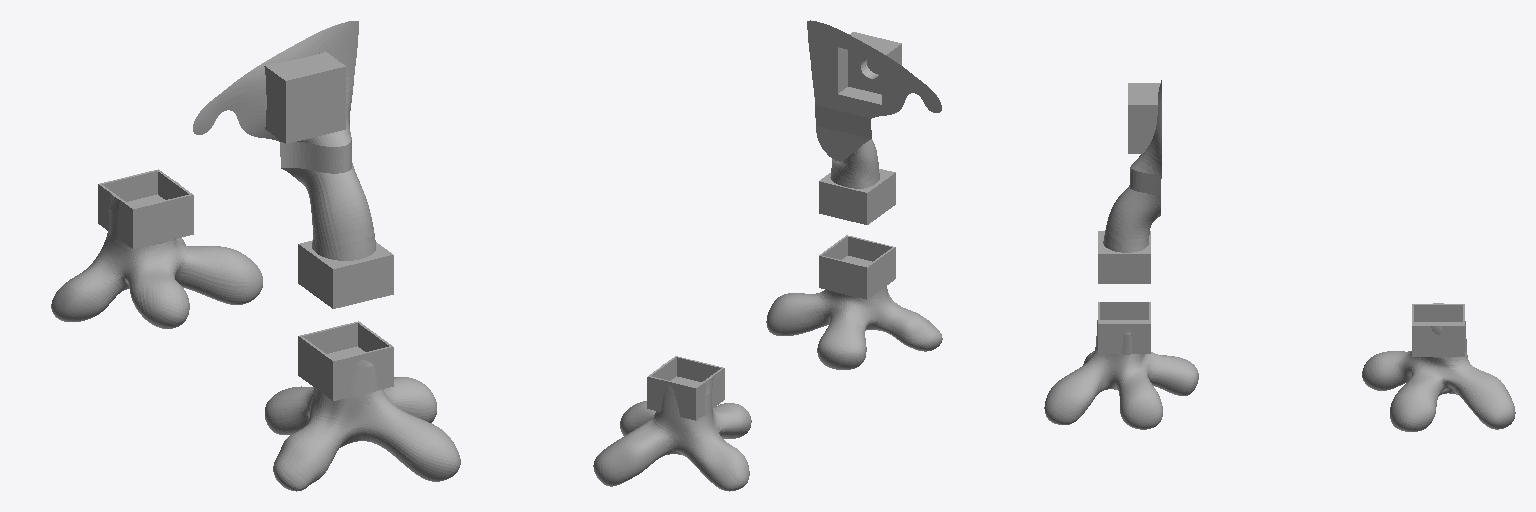
URDF robot description (FrogBot2_top-FrogBot2-y-4_bottom-FrogBot2-y-4):
<?xml version="1.0" ?>
<robot name="FrogBot2_top-FrogBot2-y-4_bottom-FrogBot2-y-4">

<material name="pla_5_percent_infill">
  <color rgba="0.700 0.700 0.700 1.000"/>
</material>

<link name="base_link">
  <inertial>
    <origin xyz="0 0 0" rpy="0 0 0"/>
    <mass value="1.3341577719423"/>
    <inertia ixx="0.0046797925109551535" iyy="0.011134478382956134" izz="0.010477176548232365" ixy="0.00012495104989682066" iyz="8.213962567094231e-05" ixz="-0.002474445058077273"/>
  </inertial>
  <visual>
    <origin xyz="0 0 0" rpy="0 0 0"/>
    <geometry>
      <mesh filename="simple_meshes/base_link.stl" scale="0.001 0.001 0.001"/>
    </geometry>
    <material name="pla_5_percent_infill"/>
  </visual>
  <collision>
    <origin xyz="0 0 0" rpy="0 0 0"/>
    <geometry>
      <mesh filename="simple_meshes/base_link.stl" scale="0.001 0.001 0.001"/>
    </geometry>
  </collision>
</link>

<link name="body_1_0_1">
  <inertial>
    <origin xyz="-0.053395 -0.09218 -0.023663" rpy="0 0 0"/>
    <mass value="0.05881359036328867"/>
    <inertia ixx="9.095212478772816e-05" iyy="9.433446921563066e-05" izz="1.9571050901978073e-05" ixy="-2.2703813579838918e-07" iyz="5.8764704355988514e-06" ixz="8.867298002828396e-06"/>
  </inertial>
  <visual>
    <origin xyz="-0.053395 -0.09218 -0.023663" rpy="0 0 0"/>
    <geometry>
      <mesh filename="simple_meshes/body_1_0_1.stl" scale="0.001 0.001 0.001"/>
    </geometry>
    <material name="pla_5_percent_infill"/>
  </visual>
  <collision>
    <origin xyz="-0.053395 -0.09218 -0.023663" rpy="0 0 0"/>
    <geometry>
      <mesh filename="simple_meshes/body_1_0_1.stl" scale="0.001 0.001 0.001"/>
    </geometry>
  </collision>
</link>

<link name="body_1_1_1">
  <inertial>
    <origin xyz="0.095032 -0.09218 0.005345" rpy="0 0 0"/>
    <mass value="0.12147764623430506"/>
    <inertia ixx="0.00010246199263522172" iyy="0.0001761943179062911" izz="0.00011782166533552858" ixy="5.410723347054093e-06" iyz="6.0611791908008915e-06" ixz="-4.685277818563974e-05"/>
  </inertial>
  <visual>
    <origin xyz="0.095032 -0.09218 0.005345" rpy="0 0 0"/>
    <geometry>
      <mesh filename="simple_meshes/body_1_1_1.stl" scale="0.001 0.001 0.001"/>
    </geometry>
    <material name="pla_5_percent_infill"/>
  </visual>
  <collision>
    <origin xyz="0.095032 -0.09218 0.005345" rpy="0 0 0"/>
    <geometry>
      <mesh filename="simple_meshes/body_1_1_1.stl" scale="0.001 0.001 0.001"/>
    </geometry>
  </collision>
</link>

<link name="body_1_2_1">
  <inertial>
    <origin xyz="-0.041549 0.09218 -0.043945" rpy="0 0 0"/>
    <mass value="0.0660515897145135"/>
    <inertia ixx="0.00015249496816287212" iyy="0.0001576127342945383" izz="3.07219080334755e-05" ixy="1.501649453832291e-06" iyz="-2.0231122639735257e-05" ixz="2.11377468936422e-05"/>
  </inertial>
  <visual>
    <origin xyz="-0.041549 0.09218 -0.043945" rpy="0 0 0"/>
    <geometry>
      <mesh filename="simple_meshes/body_1_2_1.stl" scale="0.001 0.001 0.001"/>
    </geometry>
    <material name="pla_5_percent_infill"/>
  </visual>
  <collision>
    <origin xyz="-0.041549 0.09218 -0.043945" rpy="0 0 0"/>
    <geometry>
      <mesh filename="simple_meshes/body_1_2_1.stl" scale="0.001 0.001 0.001"/>
    </geometry>
  </collision>
</link>

<link name="body_1_3_1">
  <inertial>
    <origin xyz="0.087142 0.09218 -0.003397" rpy="0 0 0"/>
    <mass value="0.12451073409510506"/>
    <inertia ixx="0.00010571617843158684" iyy="0.00017777966187887406" izz="0.00011883490240439248" ixy="-9.040581426799591e-06" iyz="-6.161322615455046e-06" ixz="-4.708264072333197e-05"/>
  </inertial>
  <visual>
    <origin xyz="0.087142 0.09218 -0.003397" rpy="0 0 0"/>
    <geometry>
      <mesh filename="simple_meshes/body_1_3_1.stl" scale="0.001 0.001 0.001"/>
    </geometry>
    <material name="pla_5_percent_infill"/>
  </visual>
  <collision>
    <origin xyz="0.087142 0.09218 -0.003397" rpy="0 0 0"/>
    <geometry>
      <mesh filename="simple_meshes/body_1_3_1.stl" scale="0.001 0.001 0.001"/>
    </geometry>
  </collision>
</link>

<link name="body_2_0_1">
  <inertial>
    <origin xyz="-0.065654 -0.139685 0.114558" rpy="0 0 0"/>
    <mass value="0.1107444252530155"/>
    <inertia ixx="0.00012624032940738994" iyy="0.00013863656985073271" izz="0.0001921665932403502" ixy="-1.045247047117481e-05" iyz="5.1925694311309376e-06" ixz="8.150636253358113e-06"/>
  </inertial>
  <visual>
    <origin xyz="-0.065654 -0.139685 0.114558" rpy="0 0 0"/>
    <geometry>
      <mesh filename="simple_meshes/body_2_0_1.stl" scale="0.001 0.001 0.001"/>
    </geometry>
    <material name="pla_5_percent_infill"/>
  </visual>
  <collision>
    <origin xyz="-0.065654 -0.139685 0.114558" rpy="0 0 0"/>
    <geometry>
      <mesh filename="simple_meshes/body_2_0_1.stl" scale="0.001 0.001 0.001"/>
    </geometry>
  </collision>
</link>

<link name="body_2_1_1">
  <inertial>
    <origin xyz="0.15751 -0.143533 0.114558" rpy="0 0 0"/>
    <mass value="0.08831010992293215"/>
    <inertia ixx="8.490810928962582e-05" iyy="9.918413415202845e-05" izz="9.836942171722717e-05" ixy="-9.11212129733191e-07" iyz="2.318386847240247e-05" ixz="1.448251129212855e-05"/>
  </inertial>
  <visual>
    <origin xyz="0.15751 -0.143533 0.114558" rpy="0 0 0"/>
    <geometry>
      <mesh filename="simple_meshes/body_2_1_1.stl" scale="0.001 0.001 0.001"/>
    </geometry>
    <material name="pla_5_percent_infill"/>
  </visual>
  <collision>
    <origin xyz="0.15751 -0.143533 0.114558" rpy="0 0 0"/>
    <geometry>
      <mesh filename="simple_meshes/body_2_1_1.stl" scale="0.001 0.001 0.001"/>
    </geometry>
  </collision>
</link>

<link name="body_2_2_1">
  <inertial>
    <origin xyz="-0.061161 0.145934 0.114558" rpy="0 0 0"/>
    <mass value="0.10824732304279813"/>
    <inertia ixx="0.00012591728711228416" iyy="0.00013513996235742145" izz="0.000191953516375088" ixy="1.1707051718161995e-05" iyz="-3.4574848813014557e-06" ixz="5.330766853549416e-06"/>
  </inertial>
  <visual>
    <origin xyz="-0.061161 0.145934 0.114558" rpy="0 0 0"/>
    <geometry>
      <mesh filename="simple_meshes/body_2_2_1.stl" scale="0.001 0.001 0.001"/>
    </geometry>
    <material name="pla_5_percent_infill"/>
  </visual>
  <collision>
    <origin xyz="-0.061161 0.145934 0.114558" rpy="0 0 0"/>
    <geometry>
      <mesh filename="simple_meshes/body_2_2_1.stl" scale="0.001 0.001 0.001"/>
    </geometry>
  </collision>
</link>

<link name="body_2_3_1">
  <inertial>
    <origin xyz="0.160089 0.145768 0.114558" rpy="0 0 0"/>
    <mass value="0.08316405117493891"/>
    <inertia ixx="8.562527914710016e-05" iyy="9.445152169073809e-05" izz="9.300721714380423e-05" ixy="2.3158356639860558e-07" iyz="-2.4224199416408507e-05" ixz="1.870806997767002e-05"/>
  </inertial>
  <visual>
    <origin xyz="0.160089 0.145768 0.114558" rpy="0 0 0"/>
    <geometry>
      <mesh filename="simple_meshes/body_2_3_1.stl" scale="0.001 0.001 0.001"/>
    </geometry>
    <material name="pla_5_percent_infill"/>
  </visual>
  <collision>
    <origin xyz="0.160089 0.145768 0.114558" rpy="0 0 0"/>
    <geometry>
      <mesh filename="simple_meshes/body_2_3_1.stl" scale="0.001 0.001 0.001"/>
    </geometry>
  </collision>
</link>

<joint name="joint_1_0" type="revolute">
  <origin xyz="0.053395 0.09218 0.023663" rpy="0 0 0"/>
  <parent link="base_link"/>
  <child link="body_1_0_1"/>
  <axis xyz="0.0 0.0 -1.0"/>
  <limit upper="1.2" lower="-1.2" effort="3.8" velocity="5.4"/>
</joint>
<transmission name="joint_1_0_tran">
  <type>transmission_interface/SimpleTransmission</type>
  <joint name="joint_1_0">
    <hardwareInterface>PositionJointInterface</hardwareInterface>
  </joint>
  <actuator name="joint_1_0_actr">
    <hardwareInterface>PositionJointInterface</hardwareInterface>
    <mechanicalReduction>1</mechanicalReduction>
  </actuator>
</transmission>

<joint name="joint_1_1" type="revolute">
  <origin xyz="-0.095032 0.09218 -0.005345" rpy="0 0 0"/>
  <parent link="base_link"/>
  <child link="body_1_1_1"/>
  <axis xyz="0.0 0.0 -1.0"/>
  <limit upper="1.2" lower="-1.2" effort="3.8" velocity="5.4"/>
</joint>
<transmission name="joint_1_1_tran">
  <type>transmission_interface/SimpleTransmission</type>
  <joint name="joint_1_1">
    <hardwareInterface>PositionJointInterface</hardwareInterface>
  </joint>
  <actuator name="joint_1_1_actr">
    <hardwareInterface>PositionJointInterface</hardwareInterface>
    <mechanicalReduction>1</mechanicalReduction>
  </actuator>
</transmission>

<joint name="joint_1_2" type="revolute">
  <origin xyz="0.041549 -0.09218 0.043945" rpy="0 0 0"/>
  <parent link="base_link"/>
  <child link="body_1_2_1"/>
  <axis xyz="0.0 0.0 -1.0"/>
  <limit upper="1.2" lower="-1.2" effort="3.8" velocity="5.4"/>
</joint>
<transmission name="joint_1_2_tran">
  <type>transmission_interface/SimpleTransmission</type>
  <joint name="joint_1_2">
    <hardwareInterface>PositionJointInterface</hardwareInterface>
  </joint>
  <actuator name="joint_1_2_actr">
    <hardwareInterface>PositionJointInterface</hardwareInterface>
    <mechanicalReduction>1</mechanicalReduction>
  </actuator>
</transmission>

<joint name="joint_1_3" type="revolute">
  <origin xyz="-0.087142 -0.09218 0.003397" rpy="0 0 0"/>
  <parent link="base_link"/>
  <child link="body_1_3_1"/>
  <axis xyz="0.0 0.0 -1.0"/>
  <limit upper="1.2" lower="-1.2" effort="3.8" velocity="5.4"/>
</joint>
<transmission name="joint_1_3_tran">
  <type>transmission_interface/SimpleTransmission</type>
  <joint name="joint_1_3">
    <hardwareInterface>PositionJointInterface</hardwareInterface>
  </joint>
  <actuator name="joint_1_3_actr">
    <hardwareInterface>PositionJointInterface</hardwareInterface>
    <mechanicalReduction>1</mechanicalReduction>
  </actuator>
</transmission>

<joint name="joint_2_0" type="revolute">
  <origin xyz="0.012259 0.047505 -0.138221" rpy="0 0 0"/>
  <parent link="body_1_0_1"/>
  <child link="body_2_0_1"/>
  <axis xyz="0.0 1.0 0.0"/>
  <limit upper="1.2" lower="-1.2" effort="3.8" velocity="5.4"/>
</joint>
<transmission name="joint_2_0_tran">
  <type>transmission_interface/SimpleTransmission</type>
  <joint name="joint_2_0">
    <hardwareInterface>PositionJointInterface</hardwareInterface>
  </joint>
  <actuator name="joint_2_0_actr">
    <hardwareInterface>PositionJointInterface</hardwareInterface>
    <mechanicalReduction>1</mechanicalReduction>
  </actuator>
</transmission>

<joint name="joint_2_1" type="revolute">
  <origin xyz="-0.062478 0.051353 -0.109213" rpy="0 0 0"/>
  <parent link="body_1_1_1"/>
  <child link="body_2_1_1"/>
  <axis xyz="0.0 1.0 0.0"/>
  <limit upper="1.2" lower="-1.2" effort="3.8" velocity="5.4"/>
</joint>
<transmission name="joint_2_1_tran">
  <type>transmission_interface/SimpleTransmission</type>
  <joint name="joint_2_1">
    <hardwareInterface>PositionJointInterface</hardwareInterface>
  </joint>
  <actuator name="joint_2_1_actr">
    <hardwareInterface>PositionJointInterface</hardwareInterface>
    <mechanicalReduction>1</mechanicalReduction>
  </actuator>
</transmission>

<joint name="joint_2_2" type="revolute">
  <origin xyz="0.019612 -0.053754 -0.158503" rpy="0 0 0"/>
  <parent link="body_1_2_1"/>
  <child link="body_2_2_1"/>
  <axis xyz="0.0 1.0 0.0"/>
  <limit upper="1.2" lower="-1.2" effort="3.8" velocity="5.4"/>
</joint>
<transmission name="joint_2_2_tran">
  <type>transmission_interface/SimpleTransmission</type>
  <joint name="joint_2_2">
    <hardwareInterface>PositionJointInterface</hardwareInterface>
  </joint>
  <actuator name="joint_2_2_actr">
    <hardwareInterface>PositionJointInterface</hardwareInterface>
    <mechanicalReduction>1</mechanicalReduction>
  </actuator>
</transmission>

<joint name="joint_2_3" type="revolute">
  <origin xyz="-0.072947 -0.053588 -0.117955" rpy="0 0 0"/>
  <parent link="body_1_3_1"/>
  <child link="body_2_3_1"/>
  <axis xyz="0.0 1.0 0.0"/>
  <limit upper="1.2" lower="-1.2" effort="3.8" velocity="5.4"/>
</joint>
<transmission name="joint_2_3_tran">
  <type>transmission_interface/SimpleTransmission</type>
  <joint name="joint_2_3">
    <hardwareInterface>PositionJointInterface</hardwareInterface>
  </joint>
  <actuator name="joint_2_3_actr">
    <hardwareInterface>PositionJointInterface</hardwareInterface>
    <mechanicalReduction>1</mechanicalReduction>
  </actuator>
</transmission>

</robot>

--- What the picture shows (computed from the rendered views, not written in the file) ---
3 views of the same robot in one strip: view 1: azimuth 30°, elevation 25°; view 2: azimuth 150°, elevation 25°; view 3: azimuth 270°, elevation 25° (orthographic).
Robot: FrogBot2_top-FrogBot2-y-4_bottom-FrogBot2-y-4 — 9 links, 8 joints (8 revolute); root link base_link; default pose: all joints at 0.
Links seen in each view (by area): view 1: body_1_2_1, body_2_2_1, body_2_0_1; view 2: body_1_2_1, body_2_0_1, body_2_2_1; view 3: body_2_0_1, body_2_2_1, body_1_2_1.
Link boxes in pixels (box(x1,y1,x2,y2)): body_1_2_1: box(193, 21, 393, 308); body_2_2_1: box(265, 321, 460, 491); body_2_0_1: box(51, 169, 262, 328); body_1_2_1: box(807, 20, 941, 224); body_2_0_1: box(593, 356, 751, 491); body_2_2_1: box(766, 235, 942, 369); body_2_0_1: box(1362, 303, 1515, 431); body_2_2_1: box(1044, 302, 1198, 429); body_1_2_1: box(1098, 80, 1161, 283).
Size in the robot's own frame: 0.185 by 0.4281 by 0.3195 metres.
Meshes: 9 distinct files referenced, 3 mesh visuals loaded (3 binary STL); not drawn: 6 (reference not matched to a file when rendering).